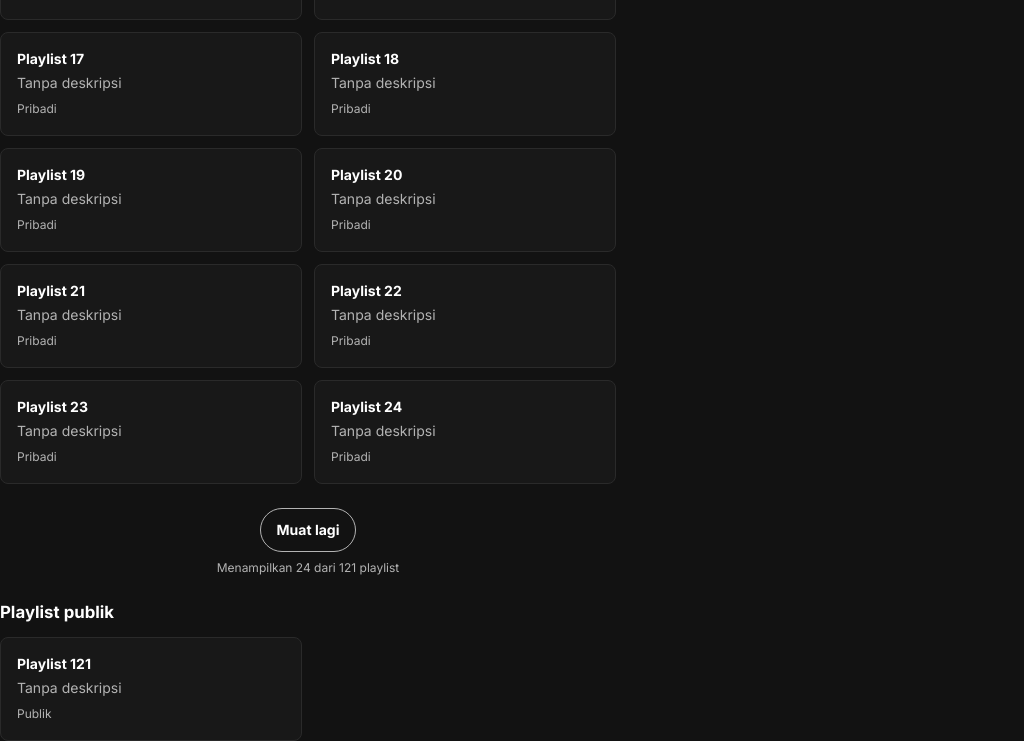
it: PlaylistsPage pagination › does not infer ownership from only the currently loaded owned page
(page scrolled)
Click the text "Playlist 121". click: {"x": 54, "y": 663}
box: [17, 655, 91, 672]
(page scrolled)
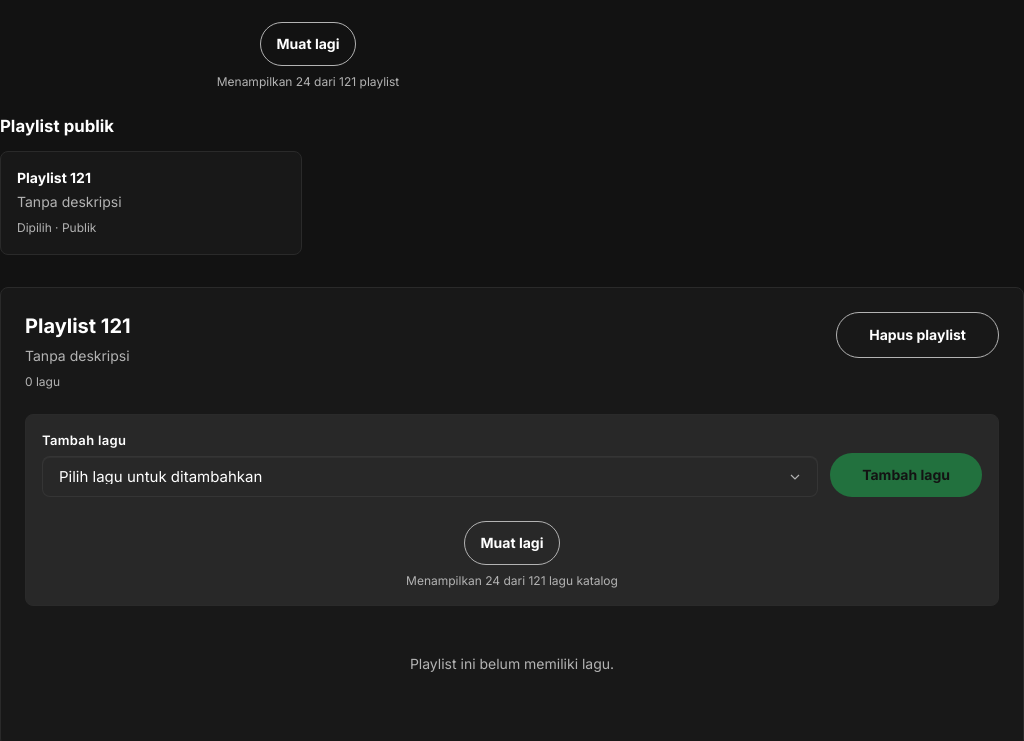
Check: the button "Hapus playlist" is shown, box [836, 312, 999, 358]
Check: the element named "Tambah lagu ke playlist" is shown, box [25, 414, 999, 606]
